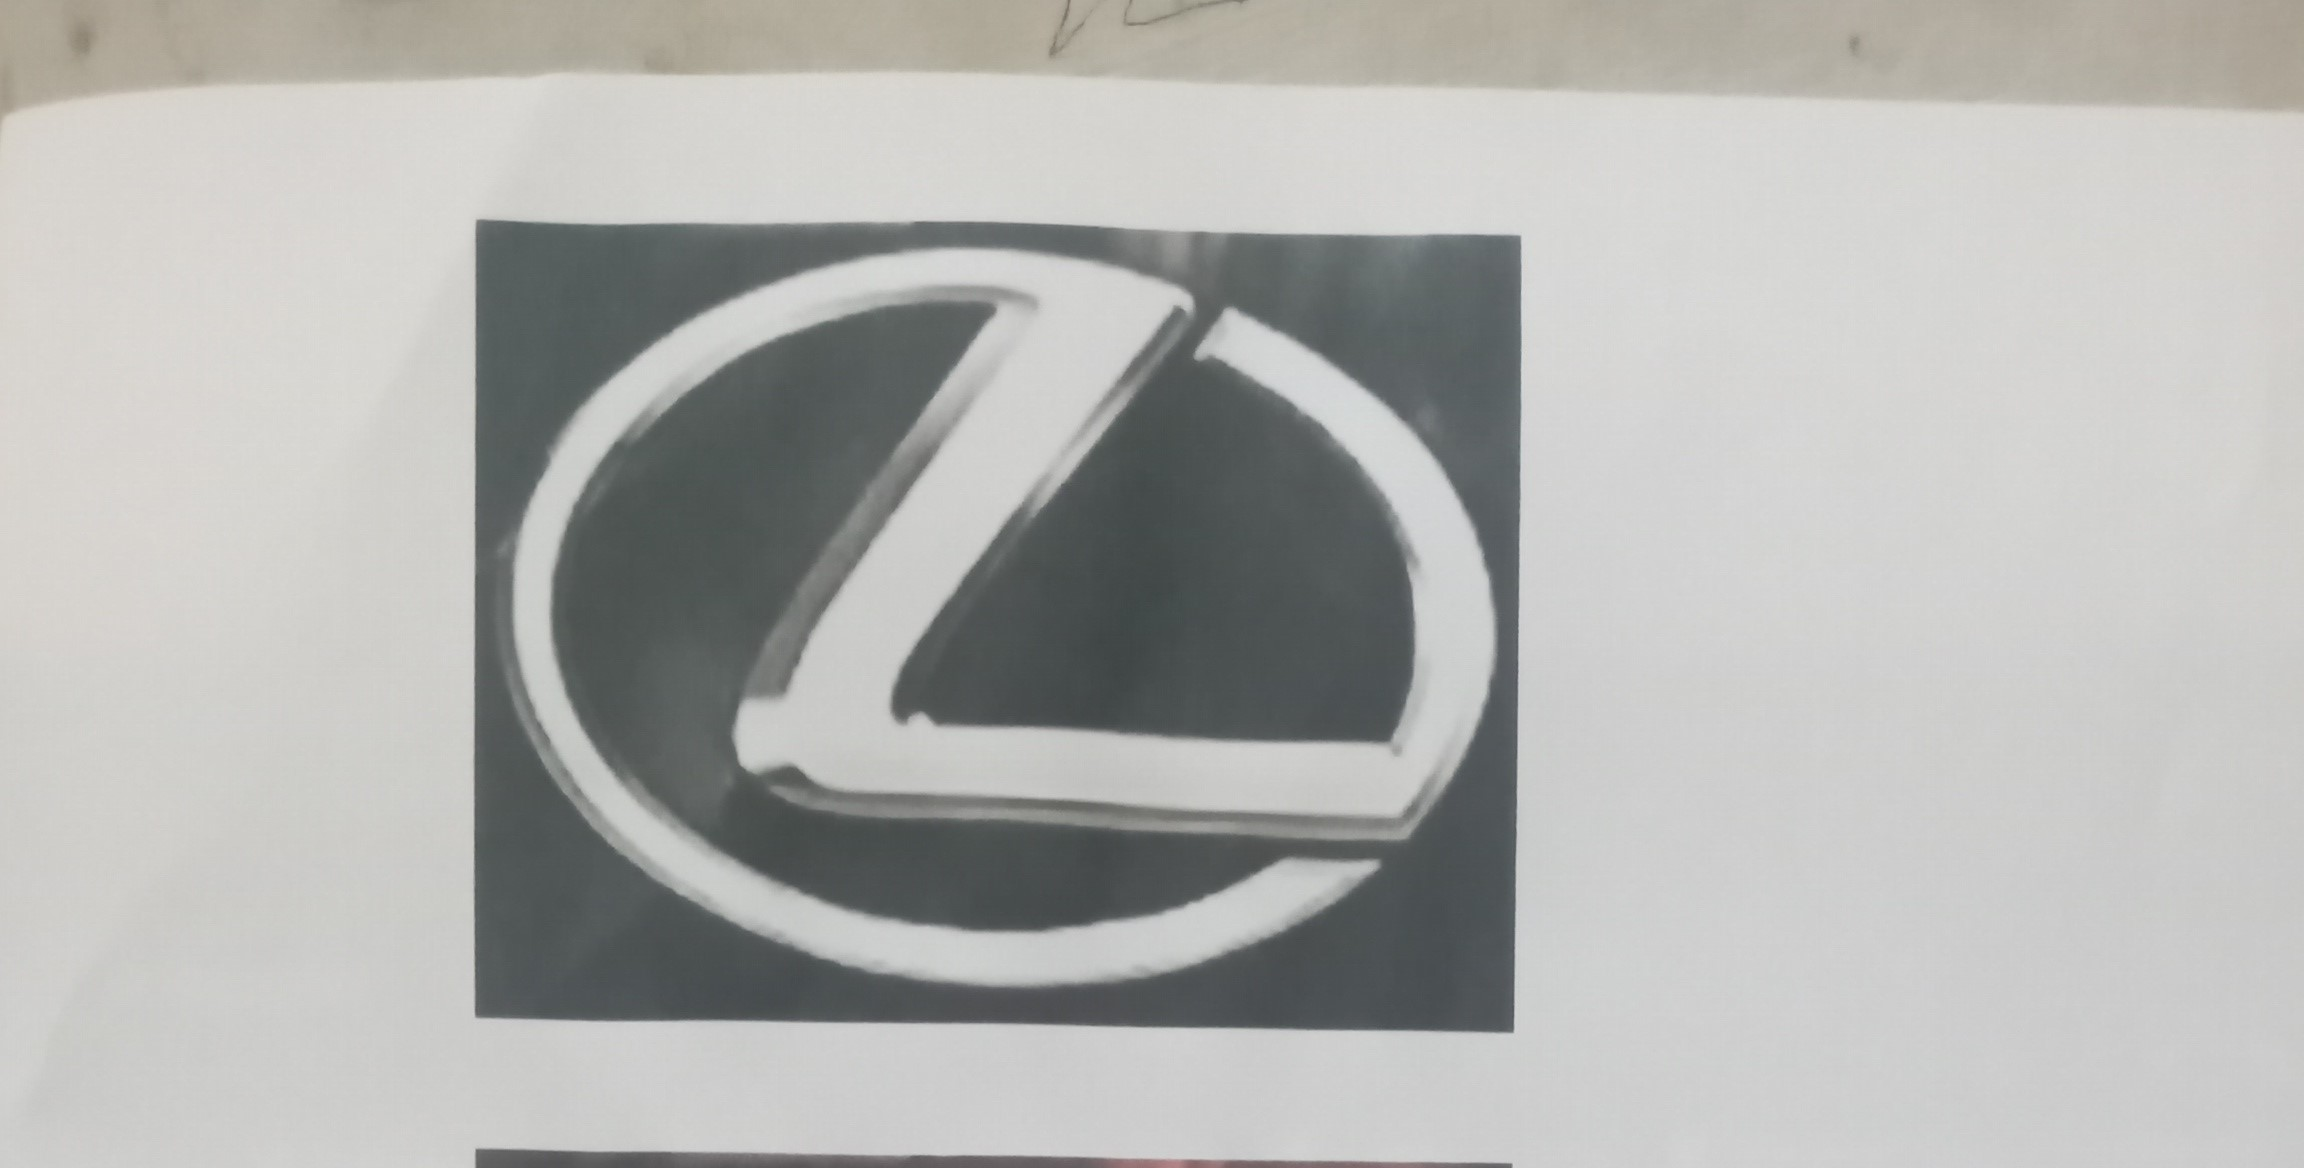Lexus: (489, 232, 1518, 1012)
